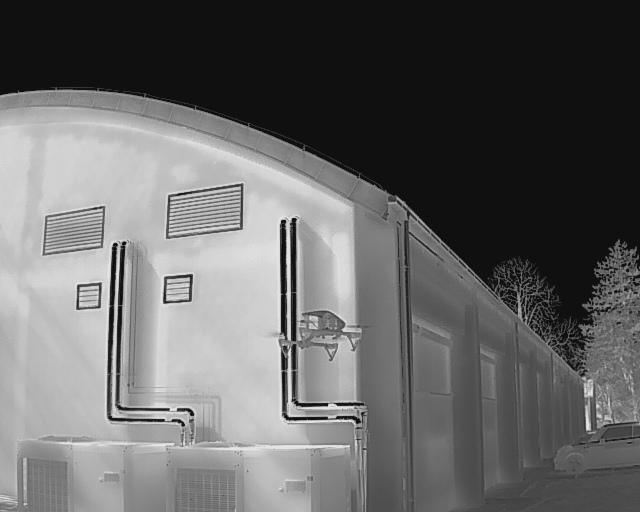drone: (264, 300, 376, 370)
